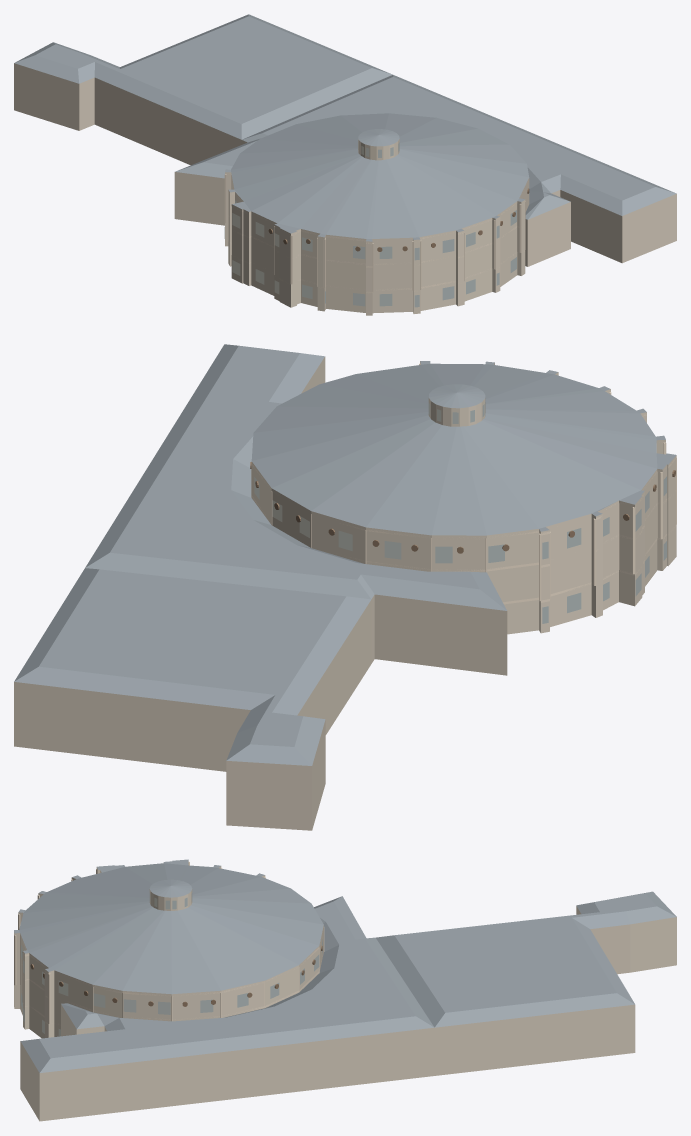
3 renders of one model, top to bottom at view 1: azimuth 30°, elevation 25°; view 2: azimuth 150°, elevation 25°; view 3: azimuth 270°, elevation 25°, orthographic. The views are drawn at different scales.
Parts seen in each view (by area): view 1: roof, stone, window, trim; view 2: roof, stone, window, trim; view 3: roof, stone, window, trim.
Part boxes in pixels (x1=…): roof: x1=14, y1=14, x2=676, y2=241; stone: x1=14, y1=63, x2=676, y2=315; window: x1=224, y1=142, x2=516, y2=307; trim: x1=224, y1=173, x2=528, y2=293; roof: x1=14, y1=344, x2=676, y2=765; stone: x1=14, y1=356, x2=676, y2=830; window: x1=254, y1=402, x2=666, y2=623; trim: x1=251, y1=362, x2=676, y2=604; roof: x1=14, y1=859, x2=676, y2=1072; stone: x1=14, y1=862, x2=676, y2=1121; window: x1=21, y1=893, x2=322, y2=1036; trim: x1=14, y1=861, x2=324, y2=1025.
Bounding box in the file's own units: 57.86 × 17.2 × 87.05.
